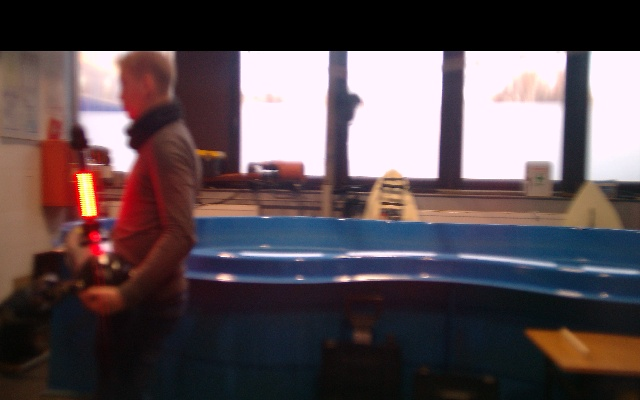red: (74, 170, 100, 225)
